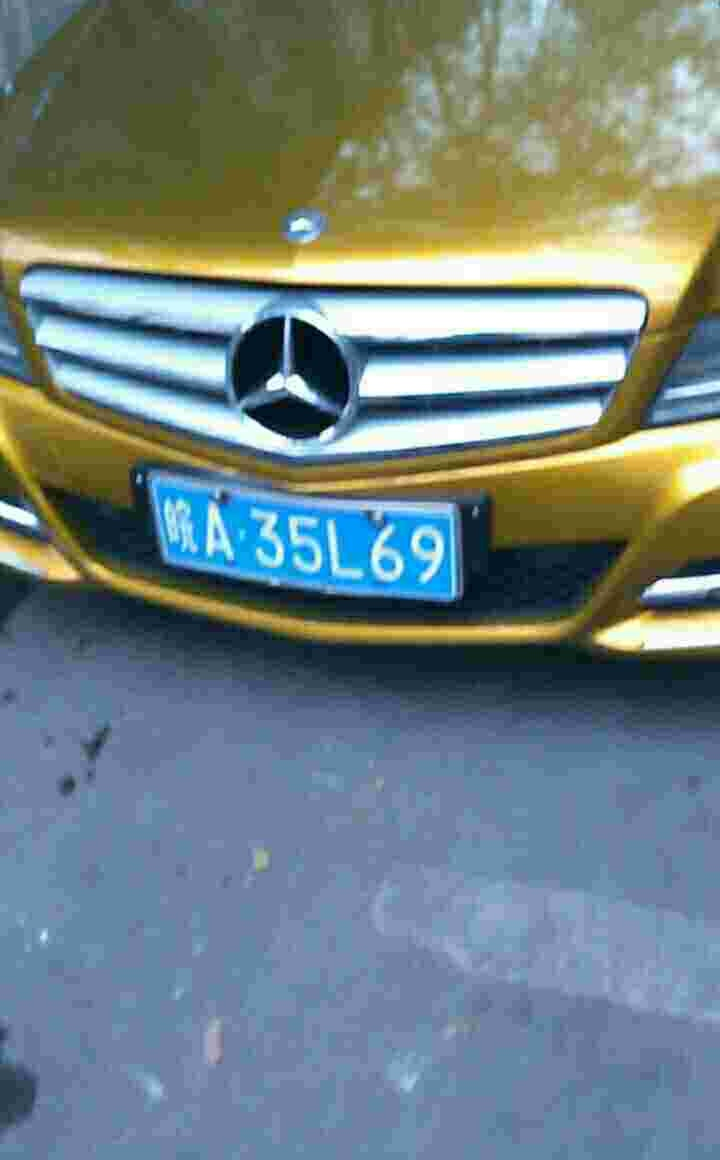license_plate: (165, 489, 466, 607)
